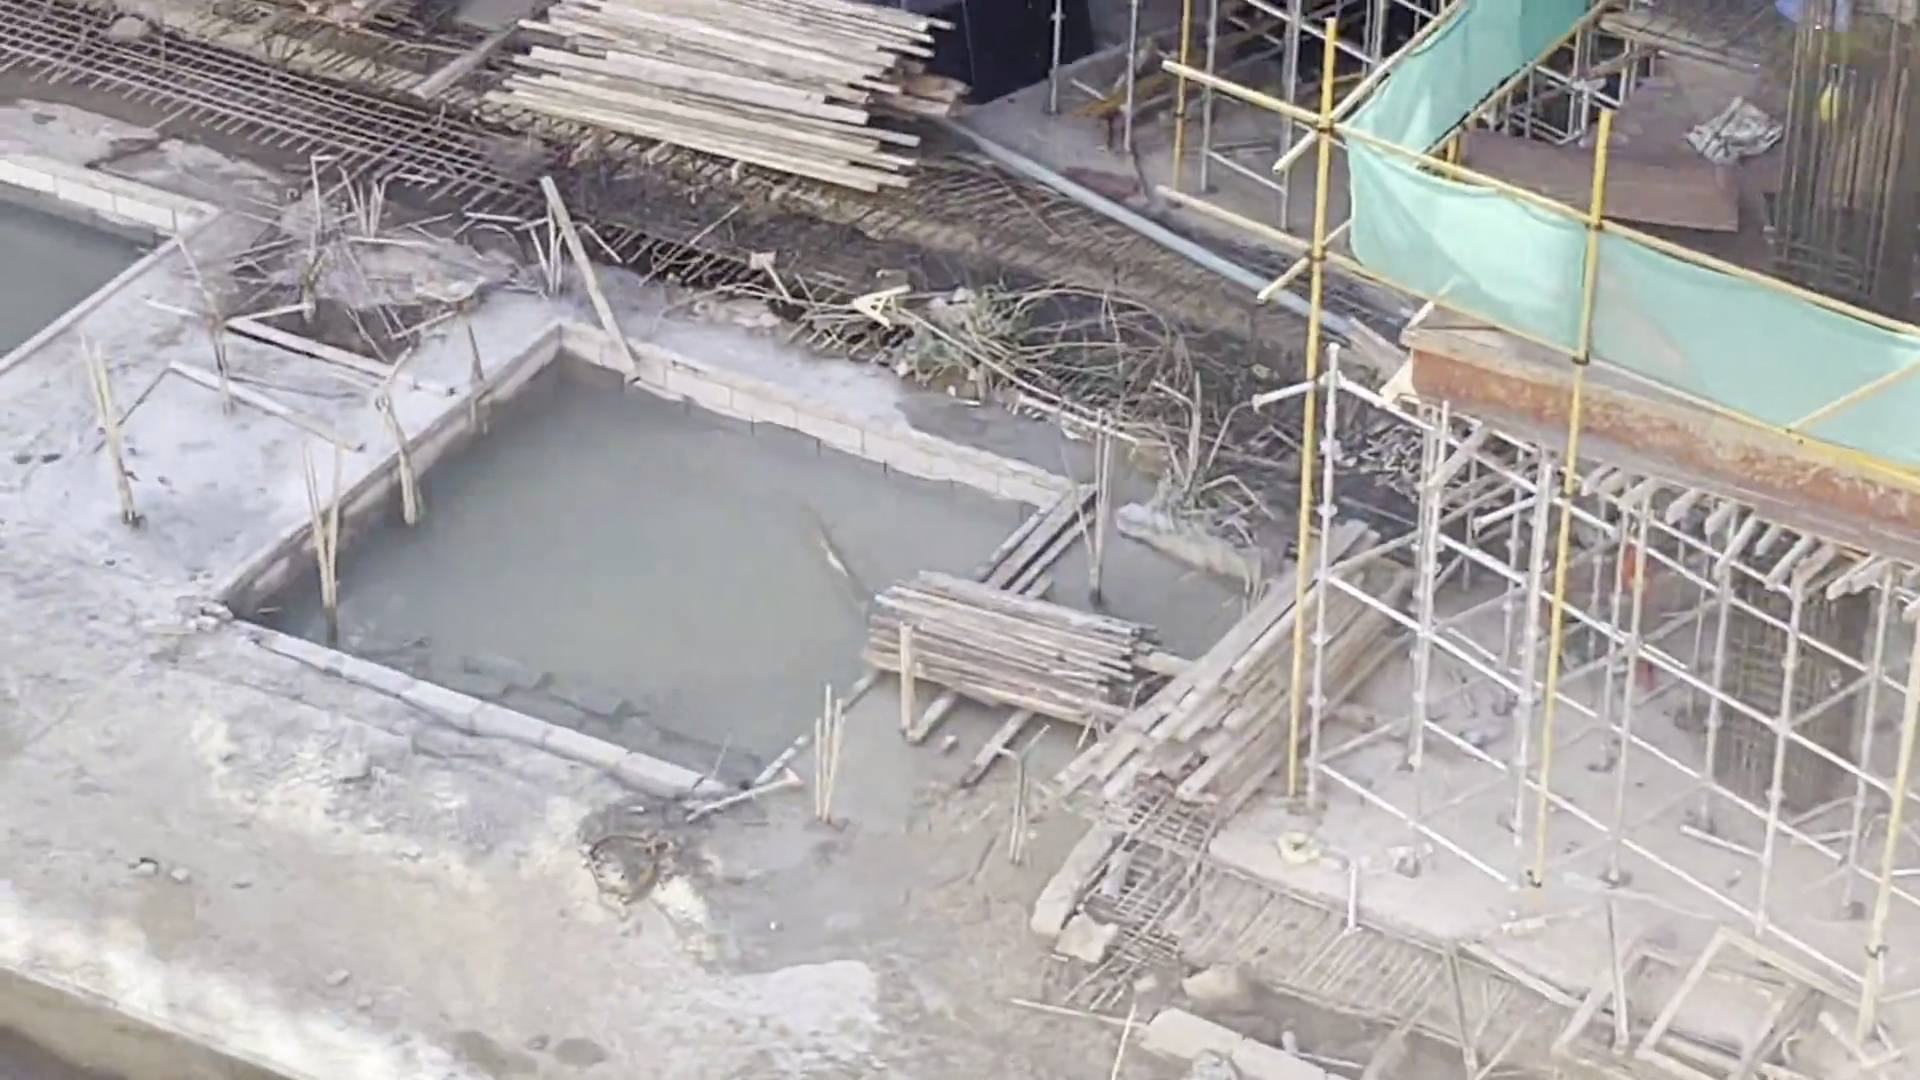wood: (1069, 513, 1418, 825), (500, 1, 971, 214), (862, 567, 1185, 764)
